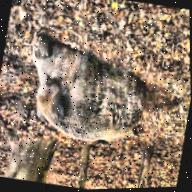boar: (14, 33, 173, 164)
